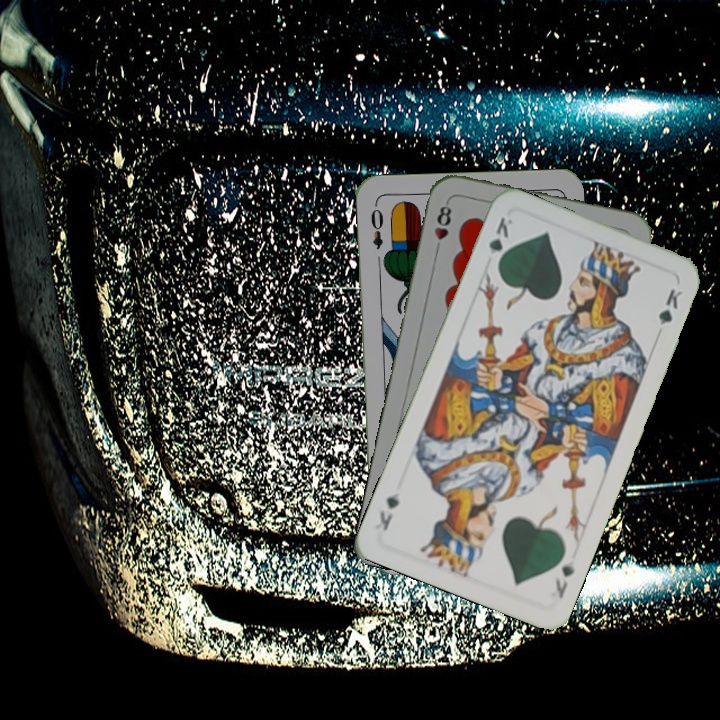EO: (366, 200, 386, 252)
GK: (484, 213, 516, 270), (551, 561, 577, 602)
H8: (430, 197, 454, 256)
